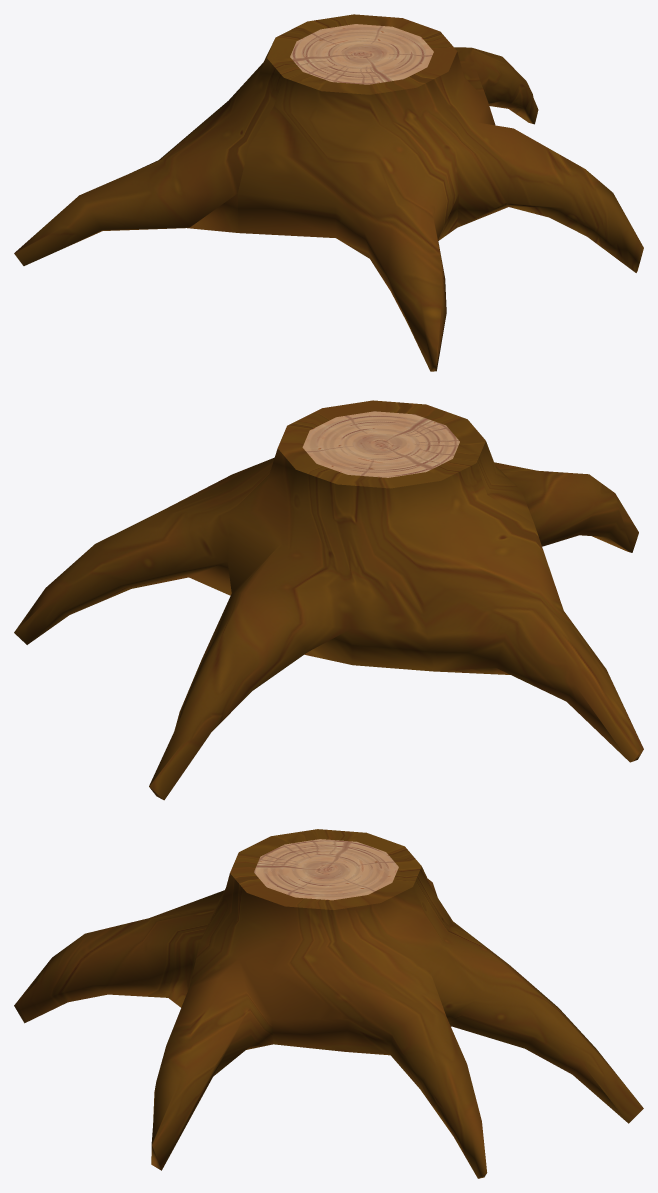
Rendered from obj_harvests_trees_leafy02_p00.fbx.
3 renders of one model, top to bottom at view 1: azimuth 30°, elevation 25°; view 2: azimuth 150°, elevation 25°; view 3: azimuth 270°, elevation 25°, orthographic. The views are drawn at different scales.
Visible parts, largest first — view 1: chunk00; view 2: chunk00; view 3: chunk00.
Part boxes in pixels (left/top/right/bottom): chunk00: left=14, top=14, right=643, bottom=371; chunk00: left=14, top=400, right=643, bottom=800; chunk00: left=14, top=829, right=643, bottom=1178.
Bounding box in the file's own units: 10.5 × 4.12 × 10.34.
